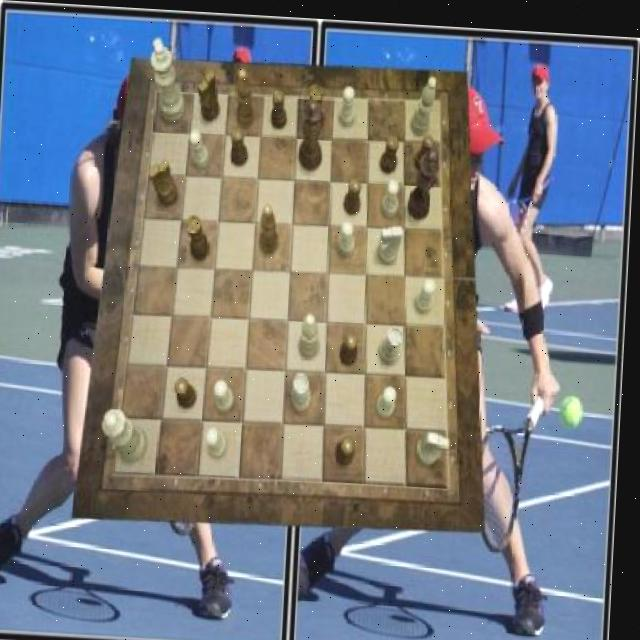bishop: (235, 65, 258, 124), (262, 200, 283, 252)
black-bishop: (410, 138, 443, 215)
black-king: (149, 157, 181, 205), (196, 68, 221, 120)
black-knight: (414, 129, 436, 167), (381, 130, 400, 169), (232, 125, 251, 164), (177, 375, 200, 407), (271, 87, 289, 126), (345, 175, 363, 212), (342, 327, 361, 362), (338, 434, 358, 462)
black-pawn: (299, 93, 326, 168)
black-queen: (187, 212, 213, 259), (305, 81, 326, 129)
black-rook: (410, 70, 436, 131), (301, 308, 324, 355)
white-bishop: (148, 35, 188, 120)
white-king: (420, 426, 454, 462), (379, 221, 404, 261)
white-knight: (190, 127, 212, 167), (417, 272, 439, 309), (216, 377, 238, 411), (209, 424, 232, 456), (340, 81, 357, 123), (383, 173, 401, 212), (378, 380, 399, 413), (339, 217, 358, 252)
white-pawn: (105, 407, 153, 462)
white-queen: (381, 322, 406, 361), (294, 370, 317, 409)
